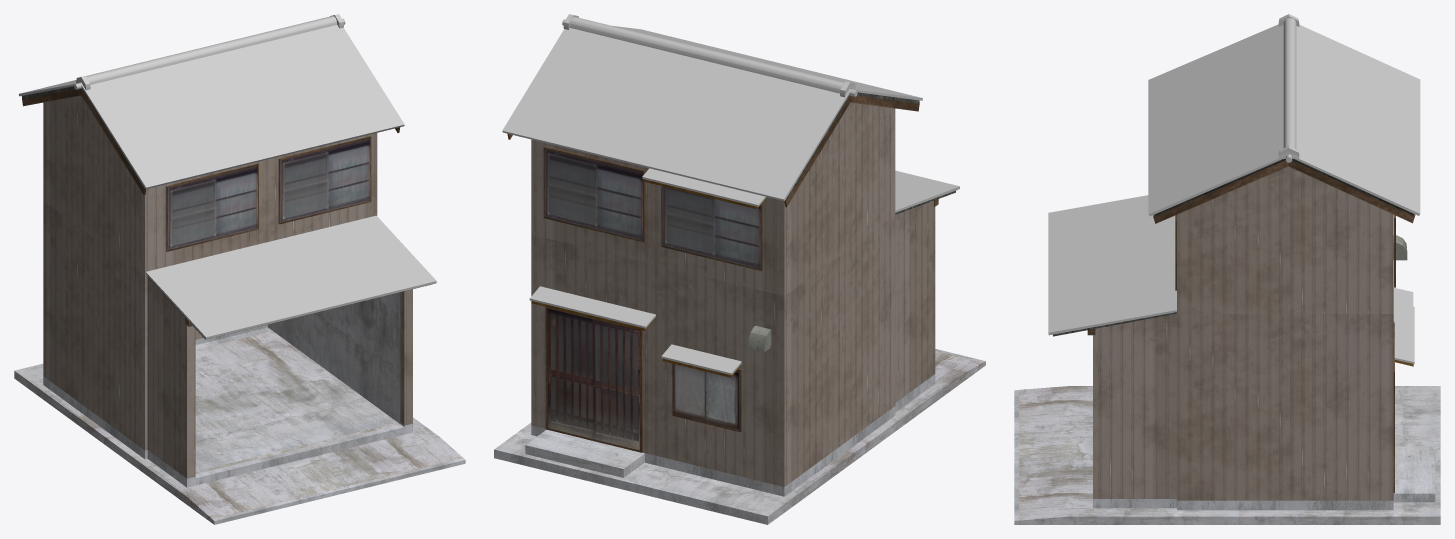
The picture shows the model from 3 angles, left to right: view 1: azimuth 30°, elevation 25°; view 2: azimuth 150°, elevation 25°; view 3: azimuth 270°, elevation 25°; orthographic projection. The views are drawn at different scales.
Visible parts, largest first — view 1: ms_h02_1; view 2: ms_h02_1; view 3: ms_h02_1.
Boxes of the visible parts, x1,y1,x2,y2 form: ms_h02_1: (14, 14, 465, 524); ms_h02_1: (494, 14, 985, 524); ms_h02_1: (1014, 14, 1440, 524).
Bounding box in the file's own units: 658 × 831 × 849.
